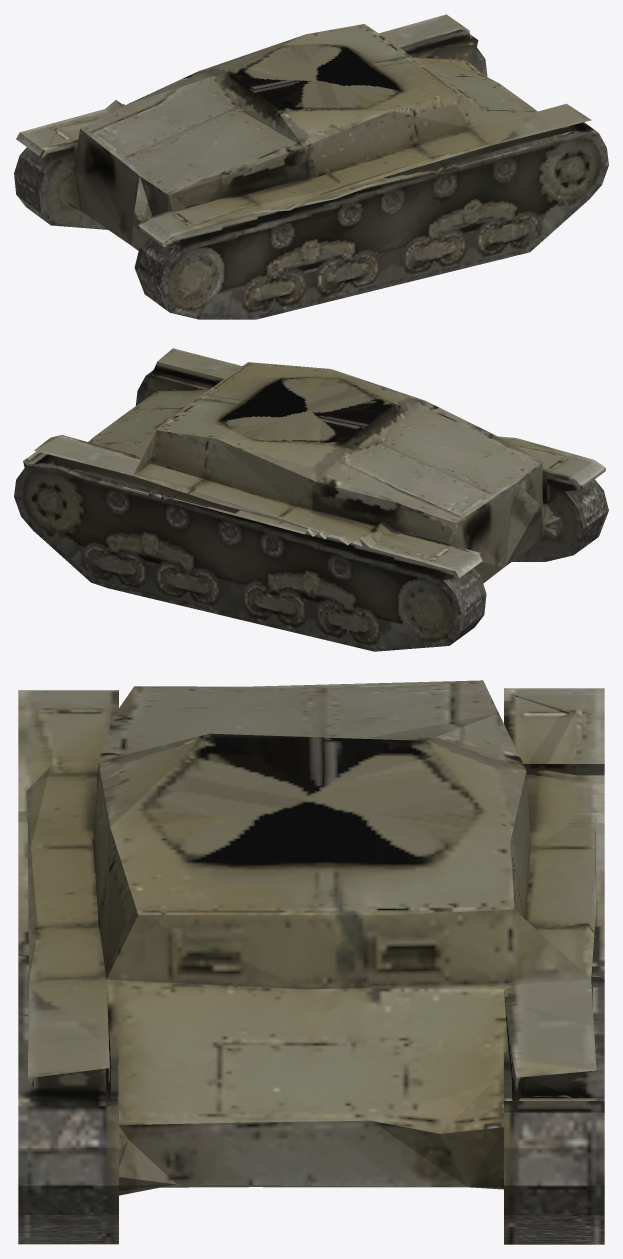
The model's file is hull.obj.
3 renders of one model, top to bottom at view 1: azimuth 30°, elevation 25°; view 2: azimuth 150°, elevation 25°; view 3: azimuth 270°, elevation 25°, orthographic. The views are drawn at different scales.
Size of the model in its own units: 1.01 by 0.3357 by 0.57.
1 material, 1 textured.
